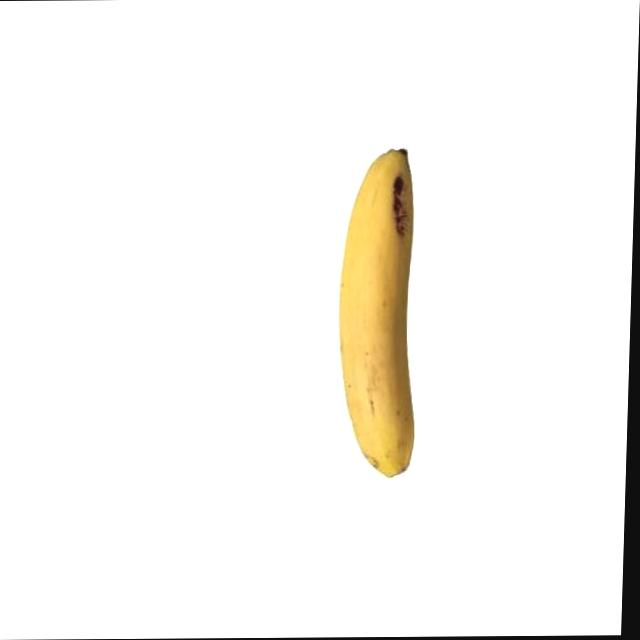banana: (329, 147, 426, 480)
